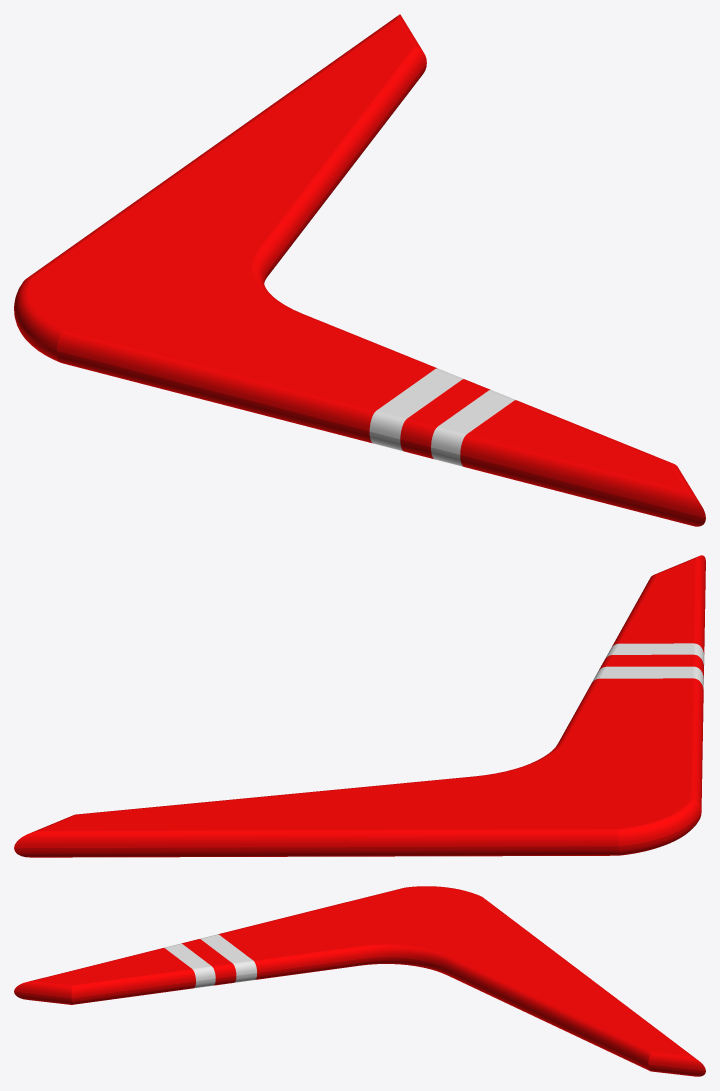
File: boomerang.r.glb
The picture shows the model from 3 angles, top to bottom: view 1: azimuth 30°, elevation 25°; view 2: azimuth 150°, elevation 25°; view 3: azimuth 270°, elevation 25°; orthographic projection. The views are drawn at different scales.
Parts seen in each view (by area): view 1: Main, White; view 2: Main, White; view 3: Main, White.
Part boxes in pixels (x1,y1,x2,y2): Main: (14,14,705,526); White: (369,368,515,466); Main: (14,555,705,857); White: (592,643,704,688); Main: (14,886,705,1076); White: (164,934,256,988).
Bounding box in the file's own units: 0.3623 × 0.0222 × 0.6042.
